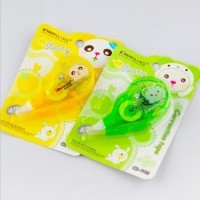Correction_fluid: (11, 48, 97, 124), (86, 73, 171, 141)
